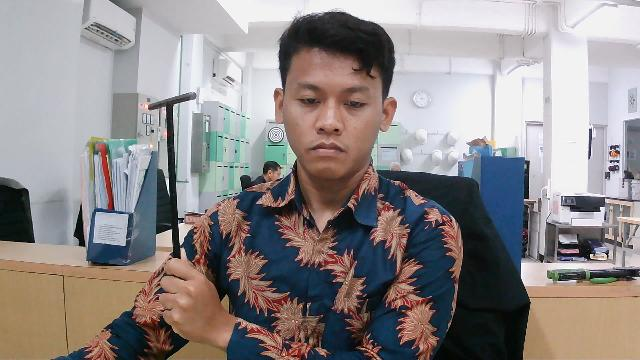kunci_t: (120, 83, 234, 349)
